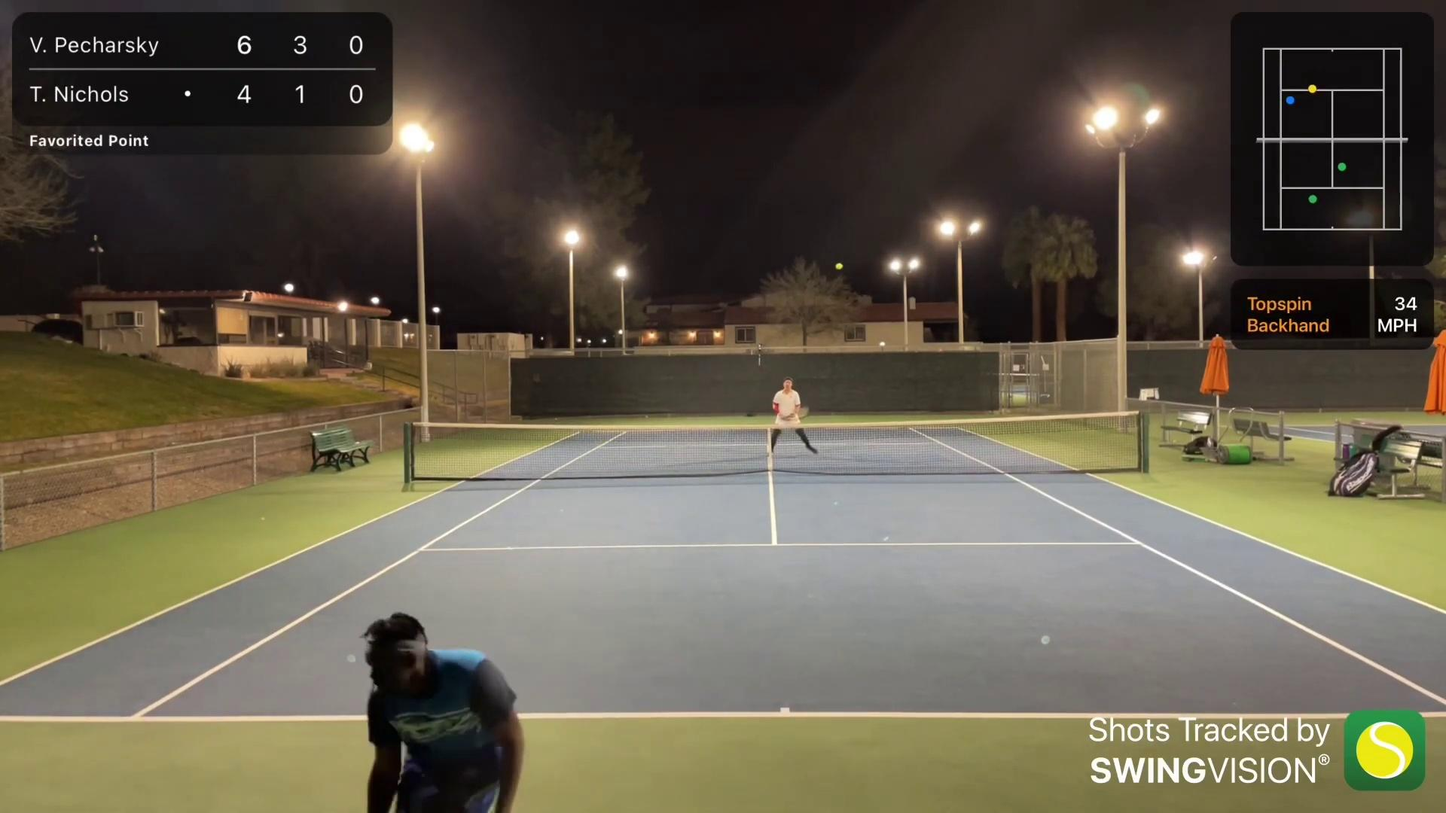ball: (839, 263, 843, 269)
